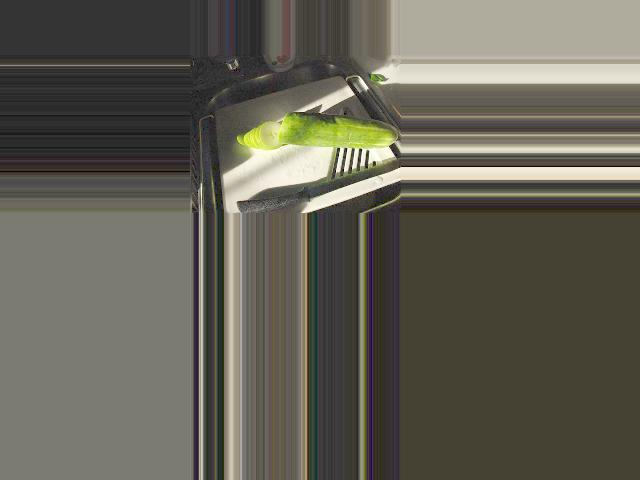cucumber: (277, 112, 397, 149)
